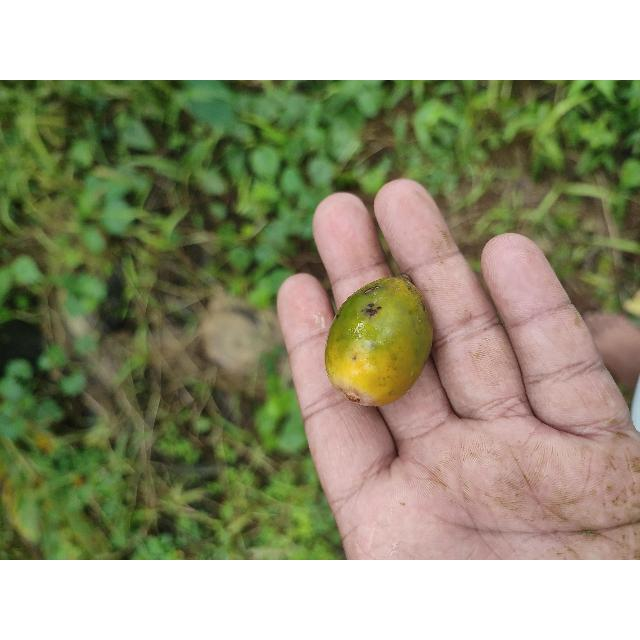good: (323, 277, 435, 408)
